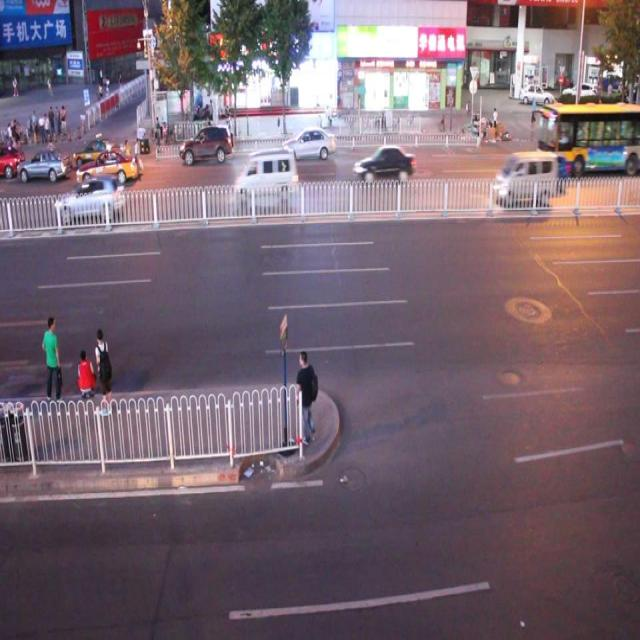car: (56, 177, 123, 219), (354, 144, 414, 183), (76, 149, 136, 184), (180, 124, 233, 162), (281, 127, 336, 162), (18, 148, 68, 181), (528, 150, 565, 191), (74, 136, 125, 165), (1, 142, 24, 177)
truck: (494, 149, 555, 204), (234, 152, 298, 199)
van: (536, 100, 640, 174)
